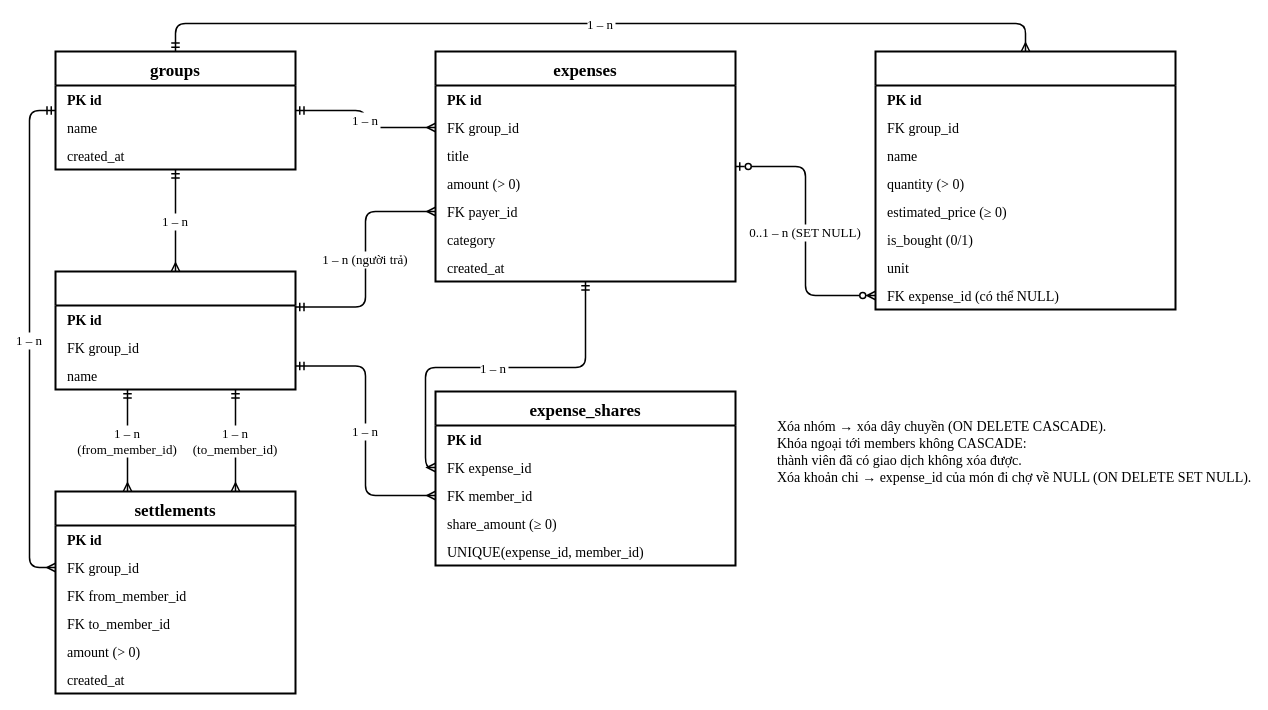
Some shapes in this 1268 by 710 pixel diagram are drawn without their labels. Each missing label, with the box of its shape:
grocery_items: (874, 50, 1176, 310)
members: (54, 270, 296, 390)
